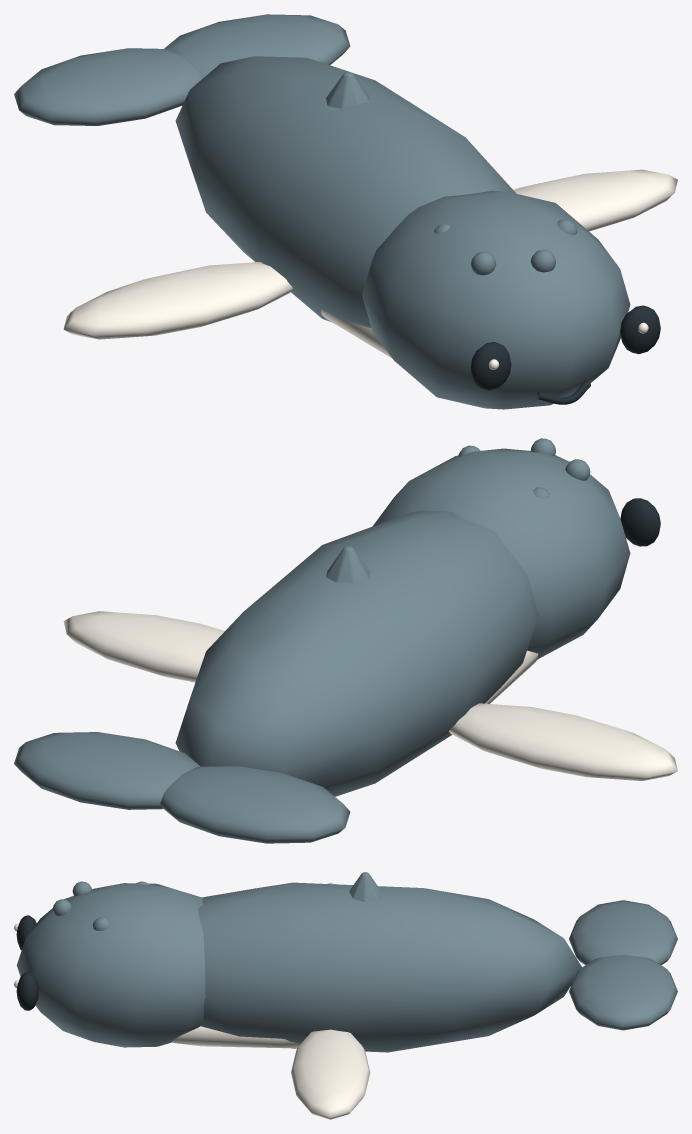
File: org_humpback.glb
3 renders of one model, top to bottom at view 1: azimuth 30°, elevation 25°; view 2: azimuth 150°, elevation 25°; view 3: azimuth 270°, elevation 25°, orthographic. The views are drawn at different scales.
Visible parts, largest first — view 1: Body, Head, Tail, Fin_R, Fin_L, Eye_L, Eye_R; view 2: Body, Head, Tail, Fin_R, Fin_L, Eye_R; view 3: Body, Head, Tail, Fin_L, Eye_L, Eye_R.
Part boxes in pixels (left/top/right/bottom): Body: left=175, top=56, right=515, bottom=357; Head: left=362, top=190, right=630, bottom=409; Tail: left=14, top=14, right=350, bottom=125; Fin_R: left=63, top=262, right=292, bottom=339; Fin_L: left=513, top=169, right=677, bottom=231; Eye_L: left=620, top=305, right=660, bottom=354; Eye_R: left=470, top=342, right=511, bottom=390; Body: left=175, top=510, right=538, bottom=796; Head: left=372, top=438, right=630, bottom=659; Tail: left=14, top=732, right=350, bottom=843; Fin_R: left=449, top=703, right=677, bottom=780; Fin_L: left=63, top=611, right=224, bottom=682; Eye_R: left=620, top=498, right=660, bottom=546; Body: left=171, top=872, right=581, bottom=1052; Head: left=16, top=881, right=205, bottom=1047; Tail: left=569, top=900, right=677, bottom=1030; Fin_L: left=291, top=1029, right=370, bottom=1119; Eye_L: left=14, top=972, right=39, bottom=1010; Eye_R: left=14, top=915, right=36, bottom=950.
Size of the model in its own units: 2.9 by 0.994 by 3.5.
